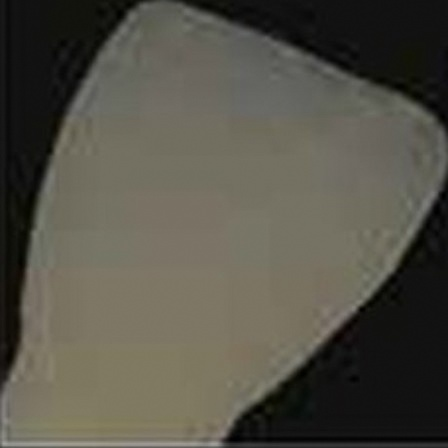coin_1: (22, 325, 42, 345)
coin_2: (44, 182, 64, 202)
coin_3: (242, 409, 262, 429)
coin_4: (361, 309, 381, 329)
